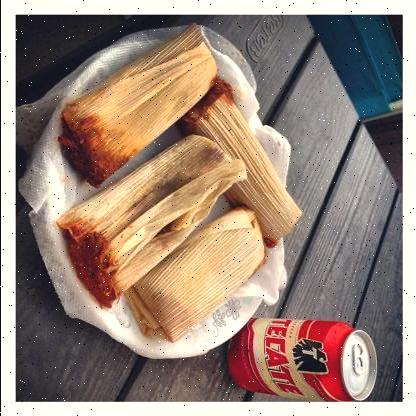Can: (225, 316, 377, 402)
